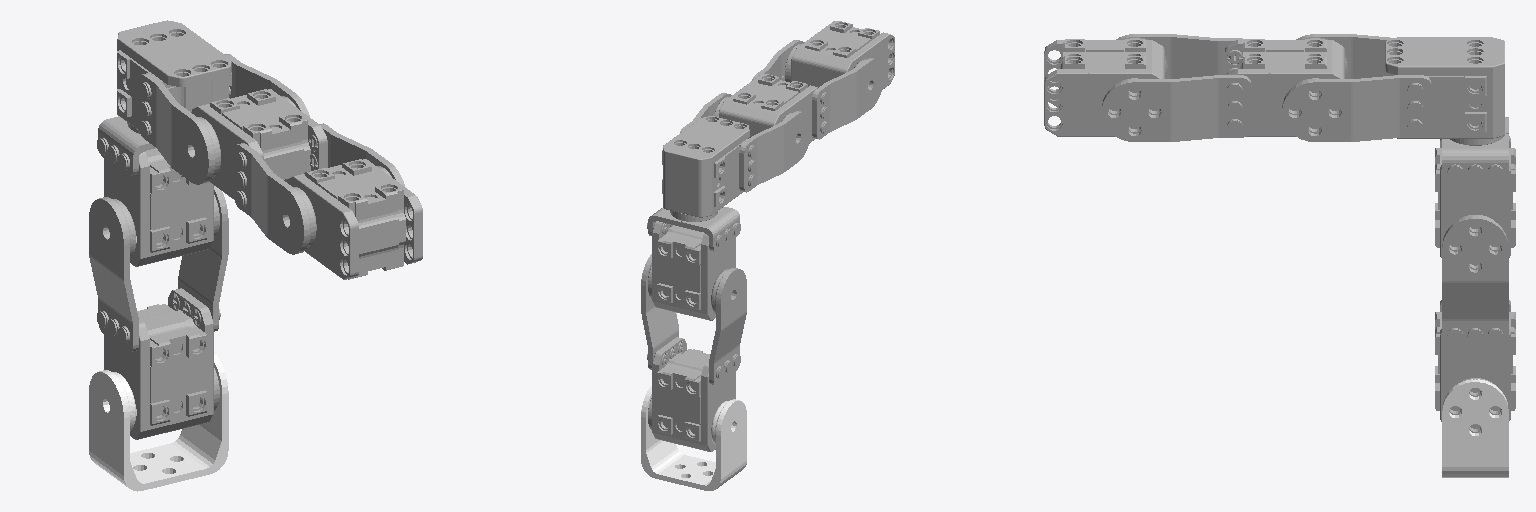
URDF robot description (Poppy_Ergo_jr):
<?xml version="1.0" ?>
<robot
  name="Poppy_Ergo_jr">
  <link
    name="base_link">
    <inertial>
      <origin
        xyz="-0.00273845833301537 0.00821639745723966 -0.0338977122062889"
        rpy="0 0 0" />
      <mass
        value="0.0802410895423366" />
      <inertia
        ixx="0.00011430194806305"
        ixy="-1.74777682977282E-06"
        ixz="7.8063859003738E-06"
        iyy="0.000177560979735167"
        iyz="6.80763560469771E-06"
        izz="7.51325469990478E-05" />
    </inertial>
    <visual>
      <origin
        xyz="0 0 0"
        rpy="0 0 0" />
      <geometry>
        <mesh
          filename="package://Poppy_Ergo_jr/meshes/base_link.STL" />
      </geometry>
      <material
        name="">
        <color
          rgba="0.752941176470588 0.752941176470588 0.752941176470588 1" />
      </material>
    </visual>
    <collision>
      <origin
        xyz="0 0 0"
        rpy="0 0 0" />
      <geometry>
        <mesh
          filename="package://Poppy_Ergo_jr/meshes/base_link.STL" />
      </geometry>
    </collision>
  </link>
  <link
    name="long_U">
    <inertial>
      <origin
        xyz="-0.00243058056226709 1.14505937431452E-07 0.0129312523306501"
        rpy="0 0 0" />
      <mass
        value="0.0042118228619085" />
      <inertia
        ixx="5.78707668456099E-07"
        ixy="9.44283869977724E-12"
        ixz="-1.13587476220175E-07"
        iyy="1.25420346852677E-06"
        iyz="4.64830147251523E-12"
        izz="9.27174545760678E-07" />
    </inertial>
    <visual>
      <origin
        xyz="0 0 0.00"
        rpy="0 0 0" />
      <geometry>
        <mesh
          filename="package://Poppy_Ergo_jr/meshes/long_U.STL" />
      </geometry>
      <material
        name="">
        <color
          rgba="1 1 1 1" />
      </material>
    </visual>
    <collision>
      <origin
        xyz="0 0 0.0"
        rpy="0 0 0" />
      <geometry>
        <mesh
          filename="package://Poppy_Ergo_jr/meshes/long_U.STL" />
      </geometry>
    </collision>
  </link>
  <joint
    name="m1"
    type="continuous">
    <origin
      xyz="0 0 0.0327993216120967"
      rpy="-6.12303176911189E-17 0 0" />
    <parent
      link="base_link" />
    <child
      link="long_U" />
    <axis
      xyz="0 0 -1" />
  </joint>
  <link
    name="section_1">
    <inertial>
      <origin
        xyz="-0.000168296047337745 0.013441283142678 -3.36410230095056E-09"
        rpy="0 0 0" />
      <mass
        value="0.0201321844066136" />
      <inertia
        ixx="6.51960684491032E-06"
        ixy="-5.35361387413197E-07"
        ixz="-5.67167110473808E-13"
        iyy="2.37206686086462E-06"
        iyz="-1.07202400036876E-12"
        izz="7.46616268702629E-06" />
    </inertial>
    <visual>
      <origin
        xyz="0 0 0"
        rpy="0 0 0" />
      <geometry>
        <mesh
          filename="package://Poppy_Ergo_jr/meshes/section_1.STL" />
      </geometry>
      <material
        name="">
        <color
          rgba="0.752941176470588 0.752941176470588 0.752941176470588 1" />
      </material>
    </visual>
    <collision>
      <origin
        xyz="0 0 0"
        rpy="0 0 0" />
      <geometry>
        <mesh
          filename="package://Poppy_Ergo_jr/meshes/section_1.STL" />
      </geometry>
    </collision>
  </link>
  <joint
    name="m2"
    type="continuous">
    <origin
      xyz="0 0 0.0240006783879033"
      rpy="1.5707963267949 0 0" />
    <parent
      link="long_U" />
    <child
      link="section_1" />
    <axis
      xyz="-1 0 0" />
  </joint>
  <link
    name="section_2">
    <inertial>
      <origin
        xyz="0.000407772974186014 0.00840914919415664 -1.07672250595912E-09"
        rpy="0 0 0" />
      <mass
        value="0.017821725151696" />
      <inertia
        ixx="2.52304488643742E-06"
        ixy="-6.63873566658207E-08"
        ixz="-2.02107710451767E-13"
        iyy="1.64177128414312E-06"
        iyz="3.46919494425175E-13"
        izz="2.86561030339994E-06" />
    </inertial>
    <visual>
      <origin
        xyz="0 0 0"
        rpy="0 0 0" />
      <geometry>
        <mesh
          filename="package://Poppy_Ergo_jr/meshes/section_2.STL" />
      </geometry>
      <material
        name="">
        <color
          rgba="0.752941176470588 0.752941176470588 0.752941176470588 1" />
      </material>
    </visual>
    <collision>
      <origin
        xyz="0 0 0"
        rpy="0 0 0" />
      <geometry>
        <mesh
          filename="package://Poppy_Ergo_jr/meshes/section_2.STL" />
      </geometry>
    </collision>
  </link>
  <joint
    name="m3"
    type="continuous">
    <origin
      xyz="0 0.054 0"
      rpy="0 0 0" />
    <parent
      link="section_1" />
    <child
      link="section_2" />
    <axis
      xyz="-1 0 0" />
  </joint>
  <link
    name="section_3">
    <inertial>
      <origin
        xyz="-0.000529269977744151 -0.0148172531686623 -0.0123545994437081"
        rpy="0 0 0" />
      <mass
        value="0.0201321844066136" />
      <inertia
        ixx="5.58716321477767E-06"
        ixy="3.84615911021611E-09"
        ixz="3.80051502924447E-07"
        iyy="6.00831891375732E-06"
        iyz="9.50610838817802E-08"
        izz="2.36437426368354E-06" />
    </inertial>
    <visual>
      <origin
        xyz="0 0 0"
        rpy="-1.57079632679 0 1.57079632679" />
      <geometry>
        <mesh
          filename="package://Poppy_Ergo_jr/meshes/section_3.STL" />
      </geometry>
      <material
        name="">
        <color
          rgba="0.752941176470588 0.752941176470588 0.752941176470588 1" />
      </material>
    </visual>
    <collision>
      <origin
        xyz="0 0 0"
        rpy="-1.57079632679 0 1.57079632679" />
      <geometry>
        <mesh
          filename="package://Poppy_Ergo_jr/meshes/section_3.STL" />
      </geometry>
    </collision>
  </link>
  <joint
    name="m4"
    type="continuous">
    <origin
      xyz="0 0.0298217741221248 0"
      rpy="3.14159265358979 0 0" />
    <parent
      link="section_2" />
    <child
      link="section_3" />
    <axis
      xyz="0 1 0" />
  </joint>
  <link
    name="section_4">
    <inertial>
      <origin
        xyz="-0.000168296047337745 0.013441283142678 -3.36410227452788E-09"
        rpy="0 0 0" />
      <mass
        value="0.0201321844066137" />
      <inertia
        ixx="6.51960684491033E-06"
        ixy="-5.3536138741319E-07"
        ixz="-5.67167109549002E-13"
        iyy="2.37206686086462E-06"
        iyz="-1.07202399874137E-12"
        izz="7.46616268702631E-06" />
    </inertial>
    <visual>
      <origin
        xyz="0 0 0"
        rpy="0 0 0" />
      <geometry>
        <mesh
          filename="package://Poppy_Ergo_jr/meshes/section_4.STL" />
      </geometry>
      <material
        name="">
        <color
          rgba="0.752941176470588 0.752941176470588 0.752941176470588 1" />
      </material>
    </visual>
    <collision>
      <origin
        xyz="0 0 0"
        rpy="0 0 0" />
      <geometry>
        <mesh
          filename="package://Poppy_Ergo_jr/meshes/section_4.STL" />
      </geometry>
    </collision>
  </link>
  <joint
    name="m5"
    type="continuous">
    <origin
      xyz="0 -0.0151782258778753 -0.048"
      rpy="-1.5707963267949 0 0" />
    <parent
      link="section_3" />
    <child
      link="section_4" />
    <axis
      xyz="-1 0 0" />
  </joint>
  <link
    name="tip">
    <inertial>
      <origin
        xyz="1.30842922607677E-09 0.000440812249500631 -0.00687616557228032"
        rpy="0 0 0" />
      <mass
        value="0.0164859649700598" />
      <inertia
        ixx="2.21073012081829E-06"
        ixy="2.00704445336612E-13"
        ixz="2.61313974888777E-13"
        iyy="1.95245657563094E-06"
        iyz="5.52468772381494E-08"
        izz="1.46932588043522E-06" />
    </inertial>
    <visual>
      <origin
        xyz="0 0 0"
        rpy="0 0 0" />
      <geometry>
        <mesh
          filename="package://Poppy_Ergo_jr/meshes/tip.STL" />
      </geometry>
      <material
        name="">
        <color
          rgba="0.752941176470588 0.752941176470588 0.752941176470588 1" />
      </material>
    </visual>
    <collision>
      <origin
        xyz="0 0 0"
        rpy="0 0 0" />
      <geometry>
        <mesh
          filename="package://Poppy_Ergo_jr/meshes/tip.STL" />
      </geometry>
    </collision>
  </link>
  <joint
    name="m6"
    type="continuous">
    <origin
      xyz="0 0.054 0"
      rpy="1.5707963267949 1.5707963267949 0" />
    <parent
      link="section_4" />
    <child
      link="tip" />
    <axis
      xyz="0 -1 0" />
  </joint>
</robot>

--- Facts derived from the render (not from the file) ---
3 views of the same robot in one strip: view 1: azimuth 30°, elevation 25°; view 2: azimuth 150°, elevation 25°; view 3: azimuth 270°, elevation 25° (orthographic).
Model Poppy_Ergo_jr with 7 links and 6 joints (6 continuous), rooted at base_link, posed all joints at 0.
Visible links, largest first — view 1: section_1, section_3, section_4, tip, section_2, long_U; view 2: section_1, section_3, section_4, section_2, long_U, tip; view 3: section_3, section_4, section_1, tip, section_2, long_U.
Link boxes in pixels (box(x1,y1,x2,y2)): section_1: box(89, 186, 228, 439); section_3: box(117, 20, 309, 184); section_4: box(191, 89, 405, 254); tip: box(287, 159, 422, 279); section_2: box(97, 116, 219, 266); long_U: box(89, 352, 228, 491); section_1: box(641, 254, 746, 451); section_3: box(662, 93, 811, 221); section_4: box(714, 40, 883, 143); section_2: box(647, 207, 740, 320); long_U: box(641, 386, 746, 490); tip: box(785, 21, 894, 89); section_3: box(1282, 34, 1504, 145); section_4: box(1102, 34, 1344, 141); section_1: box(1435, 216, 1515, 432); tip: box(1044, 39, 1164, 136); section_2: box(1435, 117, 1515, 269); long_U: box(1442, 379, 1508, 477).
Bounding box of the posed robot: 0.0342 × 0.141 × 0.135 m (x, y, z).
Meshes: 7 distinct files referenced, 6 mesh visuals loaded (6 binary STL); not drawn: 1 (reference not matched to a file when rendering).